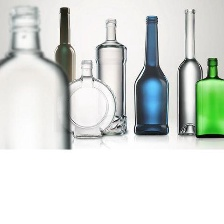bottle: (0, 3, 75, 150), (58, 57, 118, 139), (132, 13, 170, 137), (94, 17, 129, 137), (175, 6, 199, 137), (193, 56, 224, 140), (51, 3, 81, 84)
